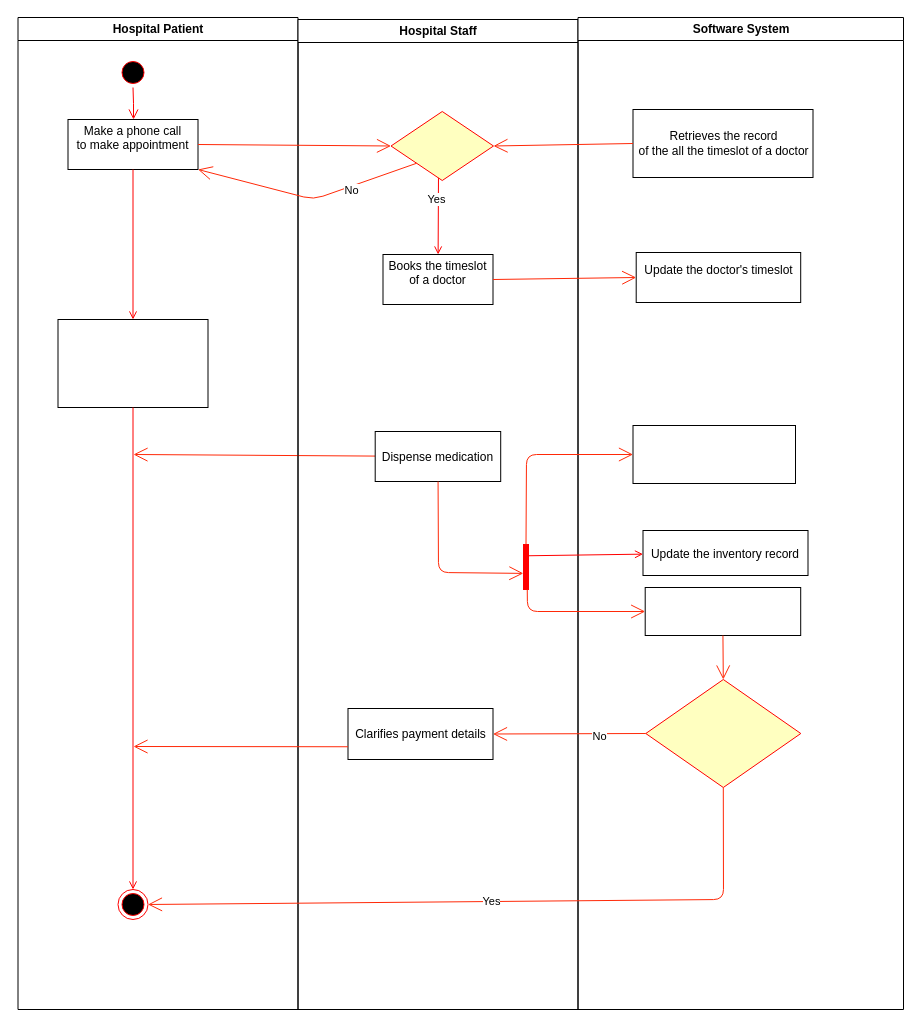
Image size: 921x1027. Some labels were removed from this diagram. Here are the shapes that lost their labels. From the top down, the centre of each, then its label:
At point (442, 145): "Is timeslot available?".
At point (132, 363): "Consults doctor at hospital".
At point (714, 454): "Update the patient's record".
At point (722, 611): "Update the financial record".
At point (723, 733): "Payment processed successfully?".
